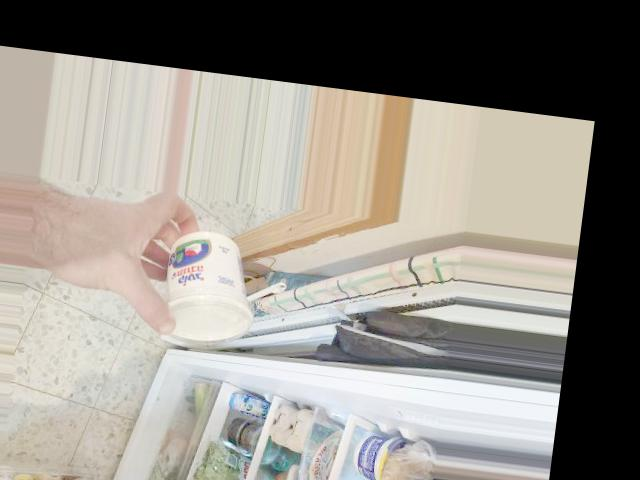cotage: (141, 221, 266, 352)
